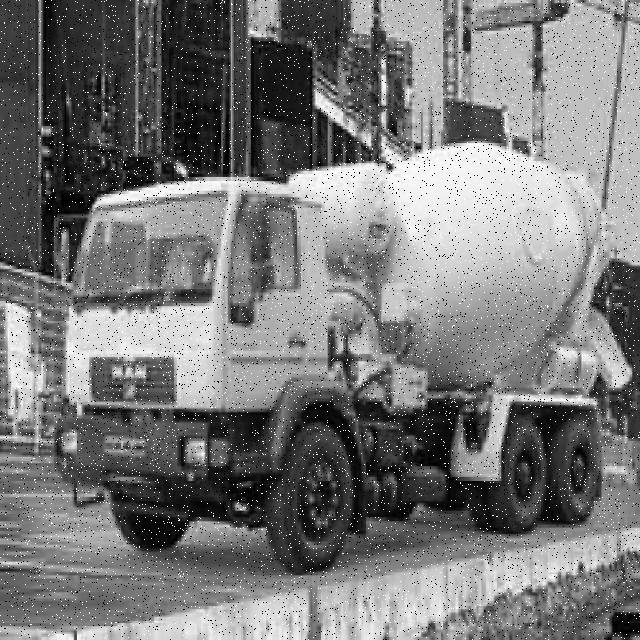Concrete Mixer: (49, 141, 633, 577)
